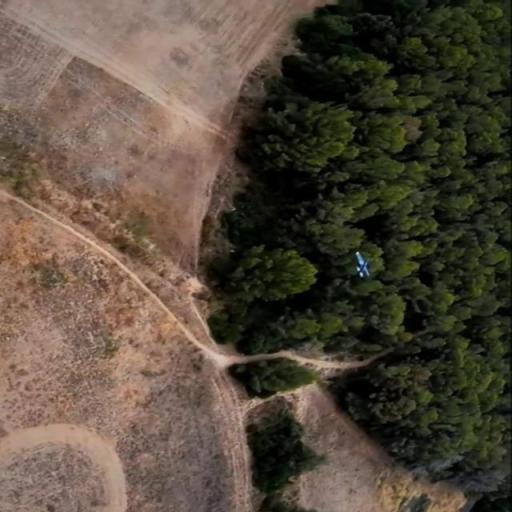uav: (352, 250, 371, 277)
